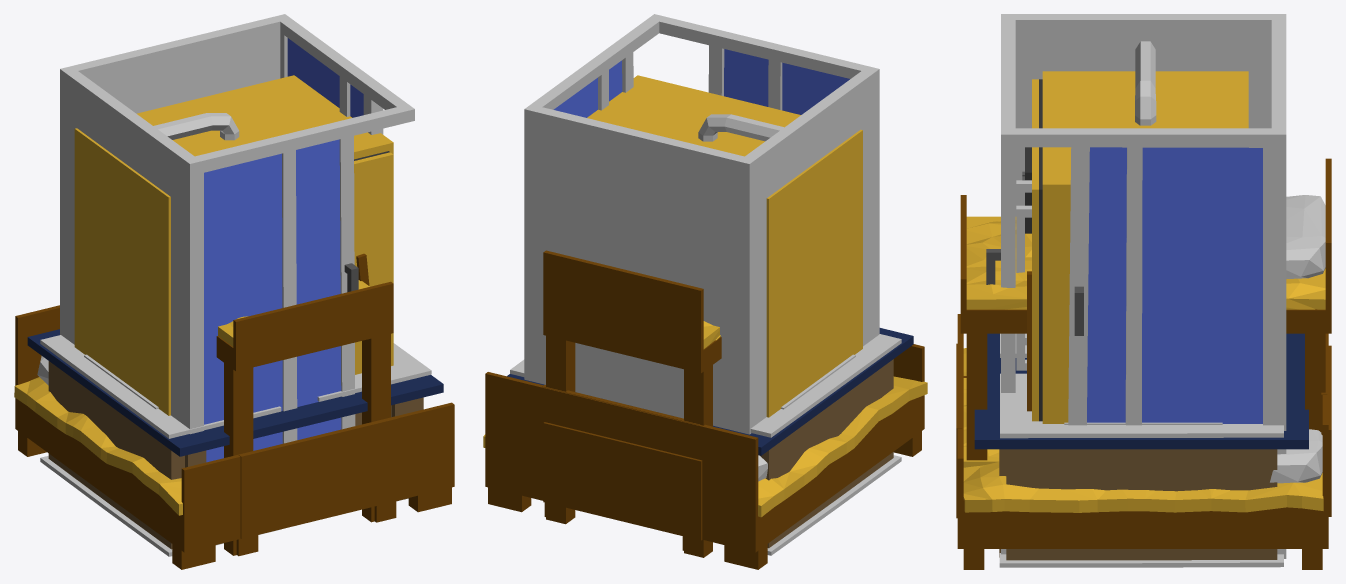
Rendered from FurnitureAssetPack.fbx.
The picture shows the model from 3 angles, left to right: view 1: azimuth 30°, elevation 25°; view 2: azimuth 150°, elevation 25°; view 3: azimuth 270°, elevation 25°; orthographic projection. The views are drawn at different scales.
Parts seen in each view (by area): view 1: Shower_cabin, Fridge_2, Double_bed, Bed_2, Bed, Kitchen_4, Kitchen_table, Kitchen_3; view 2: Shower_cabin, Double_bed, Bed_2, Fridge_2, Kitchen_4, Kitchen_table, Bed; view 3: Shower_cabin, Double_bed, Fridge_2, Kitchen_3, Bed_2, Kitchen_table, Bed.
Boxes of the visible parts, <box> form: Shower_cabin: <box>60,14,414,462</box>; Fridge_2: <box>74,75,393,415</box>; Double_bed: <box>14,305,454,569</box>; Bed_2: <box>216,253,393,555</box>; Bed: <box>236,416,398,556</box>; Kitchen_4: <box>40,335,281,556</box>; Kitchen_table: <box>27,329,443,501</box>; Kitchen_3: <box>317,343,431,425</box>; Shower_cabin: <box>524,14,879,434</box>; Double_bed: <box>483,344,927,569</box>; Bed_2: <box>543,250,721,557</box>; Fridge_2: <box>587,75,862,417</box>; Kitchen_4: <box>750,334,901,555</box>; Kitchen_table: <box>507,328,913,455</box>; Bed: <box>542,385,699,550</box>; Shower_cabin: <box>986,14,1286,558</box>; Double_bed: <box>957,314,1328,569</box>; Fridge_2: <box>1016,71,1248,423</box>; Kitchen_3: <box>999,373,1283,567</box>; Bed_2: <box>960,158,1331,516</box>; Kitchen_table: <box>974,333,1308,557</box>; Bed: <box>956,333,1327,518</box>.
Size of the model in its own units: 251 by 339 by 263.
